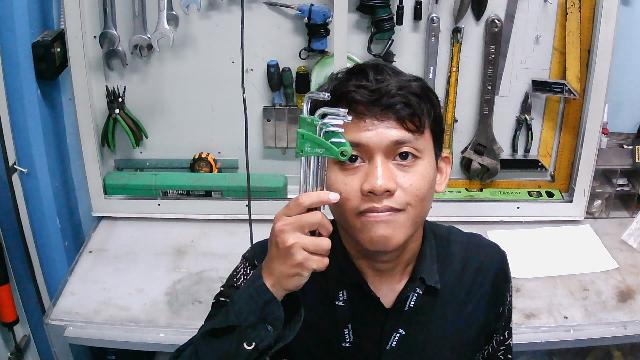kunci_l_bintang: (294, 83, 352, 249)
